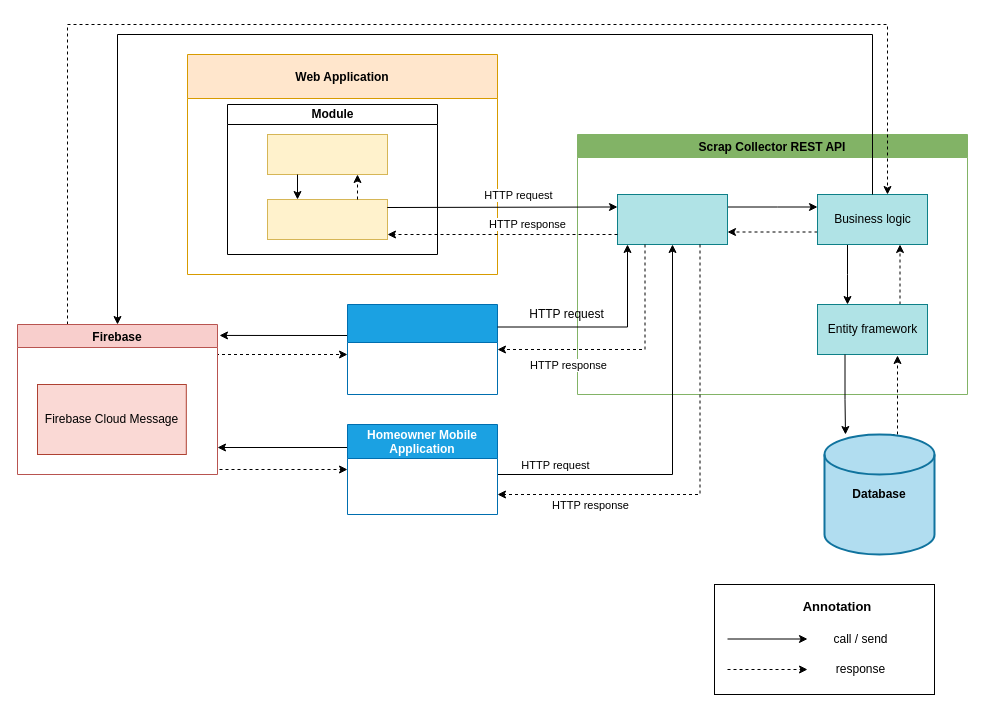
Image size: 985x712. Some labels were removed from this diagram. Here are the shapes that lost their labels. From the top down, the box of each, then its label:
(266, 134, 388, 174): Component
(266, 198, 388, 240): Service
(616, 194, 728, 244): Controller
(346, 304, 498, 394): Collector Mobile Application
